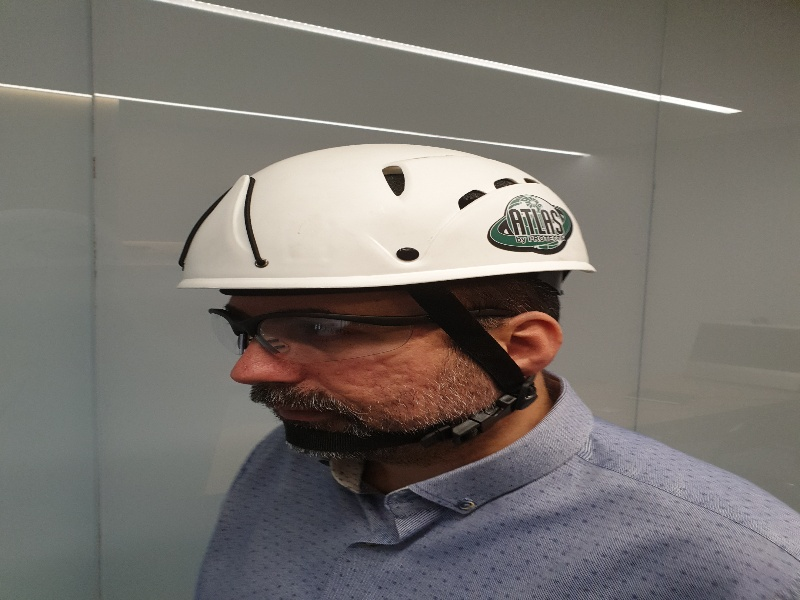Baret: (173, 143, 599, 290)
Gozluk: (208, 306, 544, 366)
